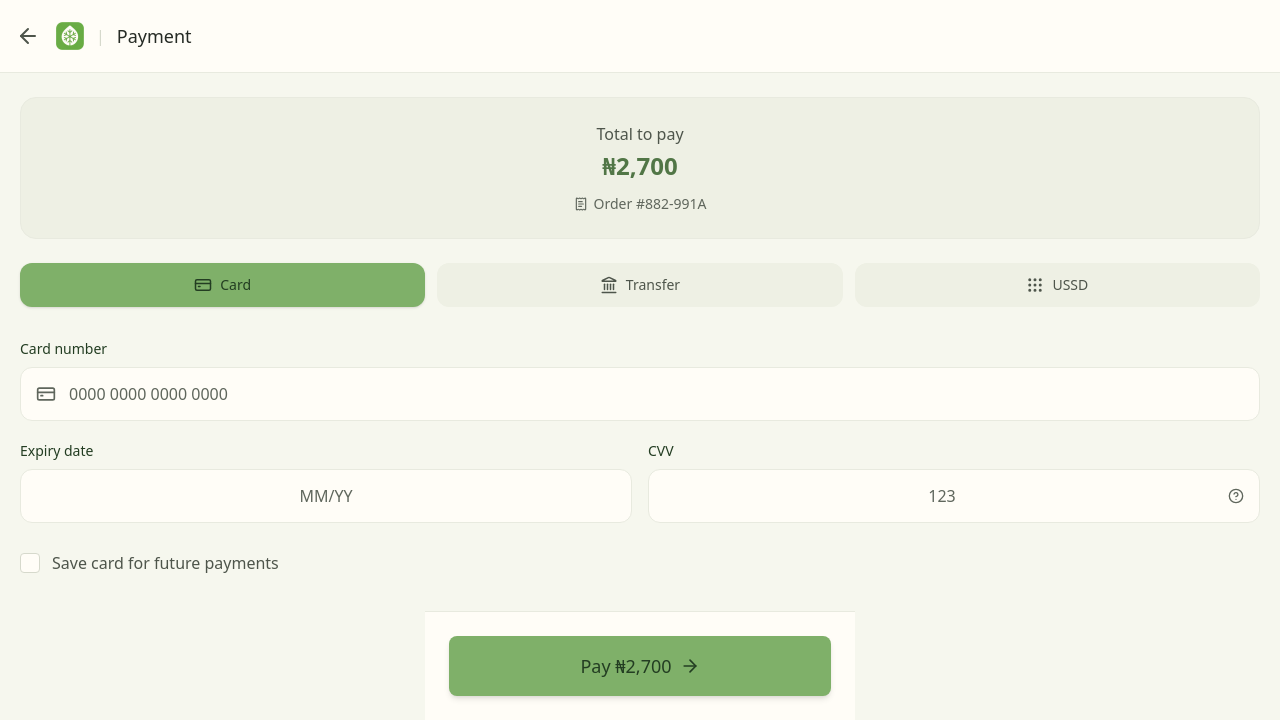
Test: Payment screen › says the Transfer method is coming soon
What coordinates should you click on to do the following:
click the button "Transfer"
I would click on:
 (640, 285)
Its box is [437,263,843,307].
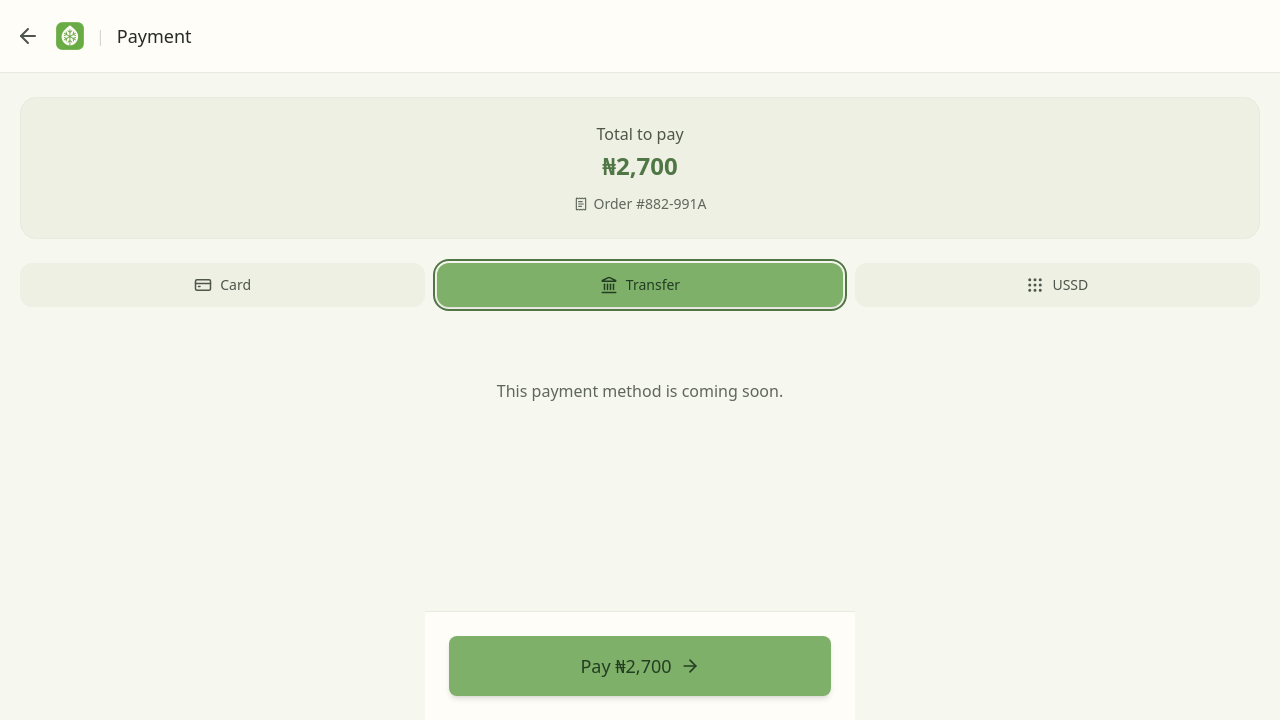
Check: the text "This payment method is coming soon." is shown, box [497,379,783,403]
Check: the label labelled "Card number" is gone
